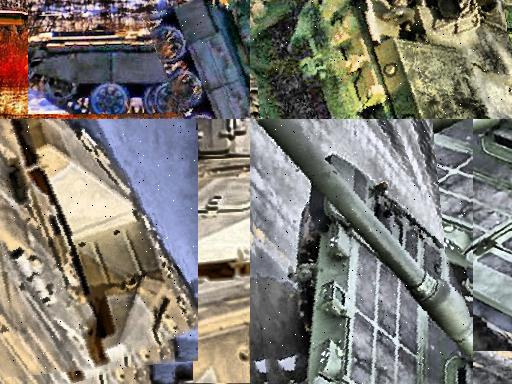tanks: (259, 120, 473, 384), (1, 120, 198, 380), (251, 1, 512, 120), (145, 1, 251, 120), (174, 373, 195, 384)
